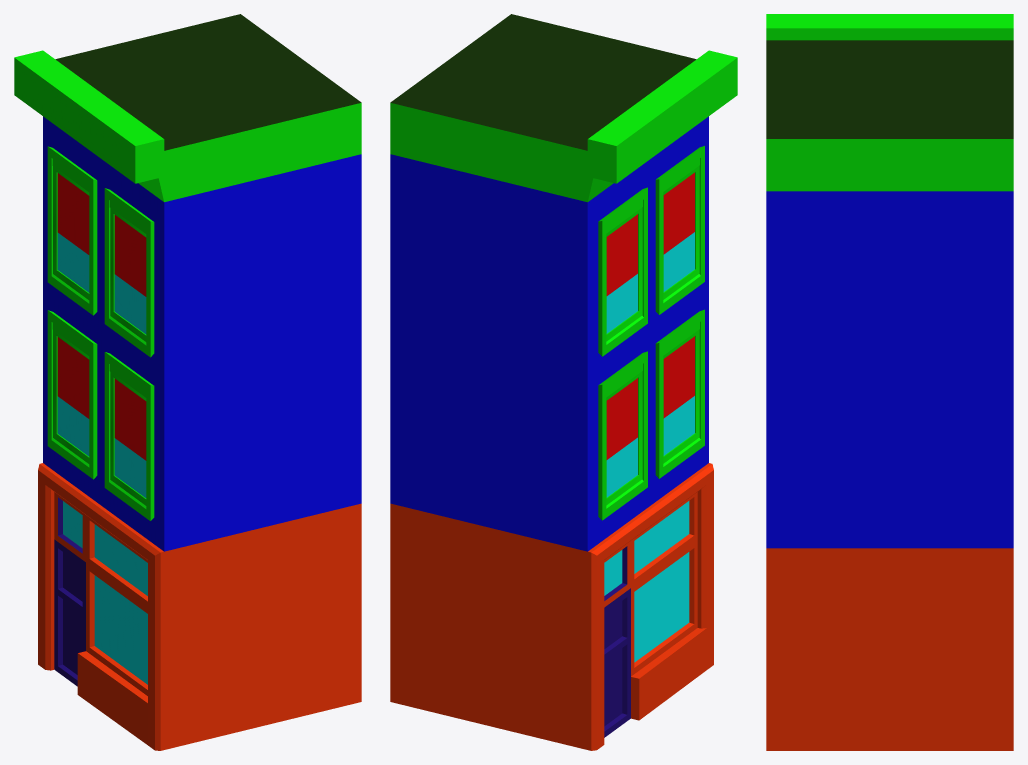
The model's file is Links_3.obj.
3 views of the same model, side by side, from view 1: azimuth 30°, elevation 25°; view 2: azimuth 150°, elevation 25°; view 3: azimuth 270°, elevation 25° (orthographic). The views are drawn at different scales.
Visible parts, largest first — view 1: polySurface483; view 2: polySurface483; view 3: polySurface483.
Part boxes in pixels (x1,y1,x2,y2): polySurface483: [14, 14, 361, 750]; polySurface483: [390, 14, 737, 750]; polySurface483: [766, 14, 1013, 750].
Bounding box in the file's own units: 11.46 × 29.56 × 10.62.
